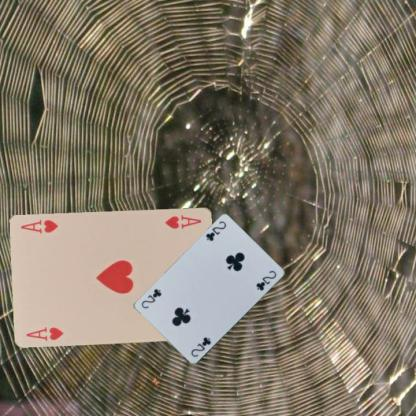2c: (203, 219, 227, 243), (188, 335, 212, 358)
Ah: (162, 212, 203, 230), (24, 324, 64, 342)
